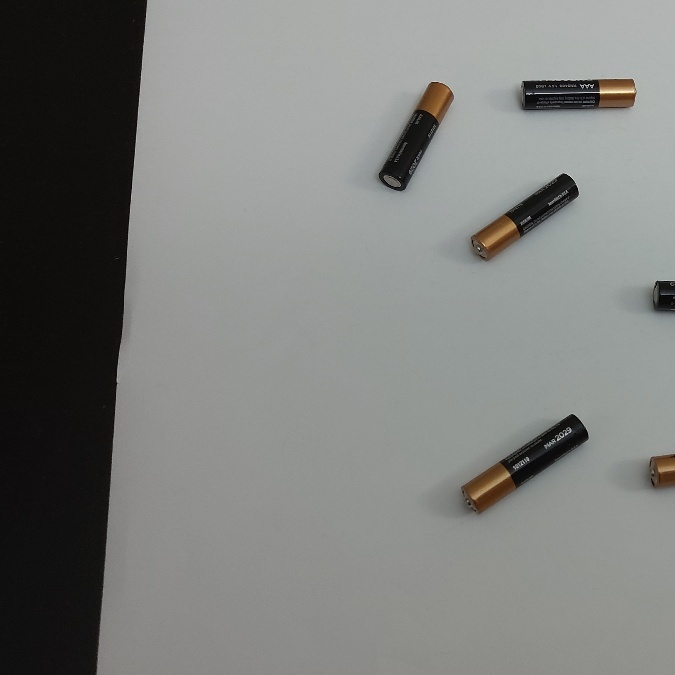battery: (459, 413, 585, 522), (464, 174, 581, 259), (378, 75, 452, 190), (517, 69, 638, 118)
